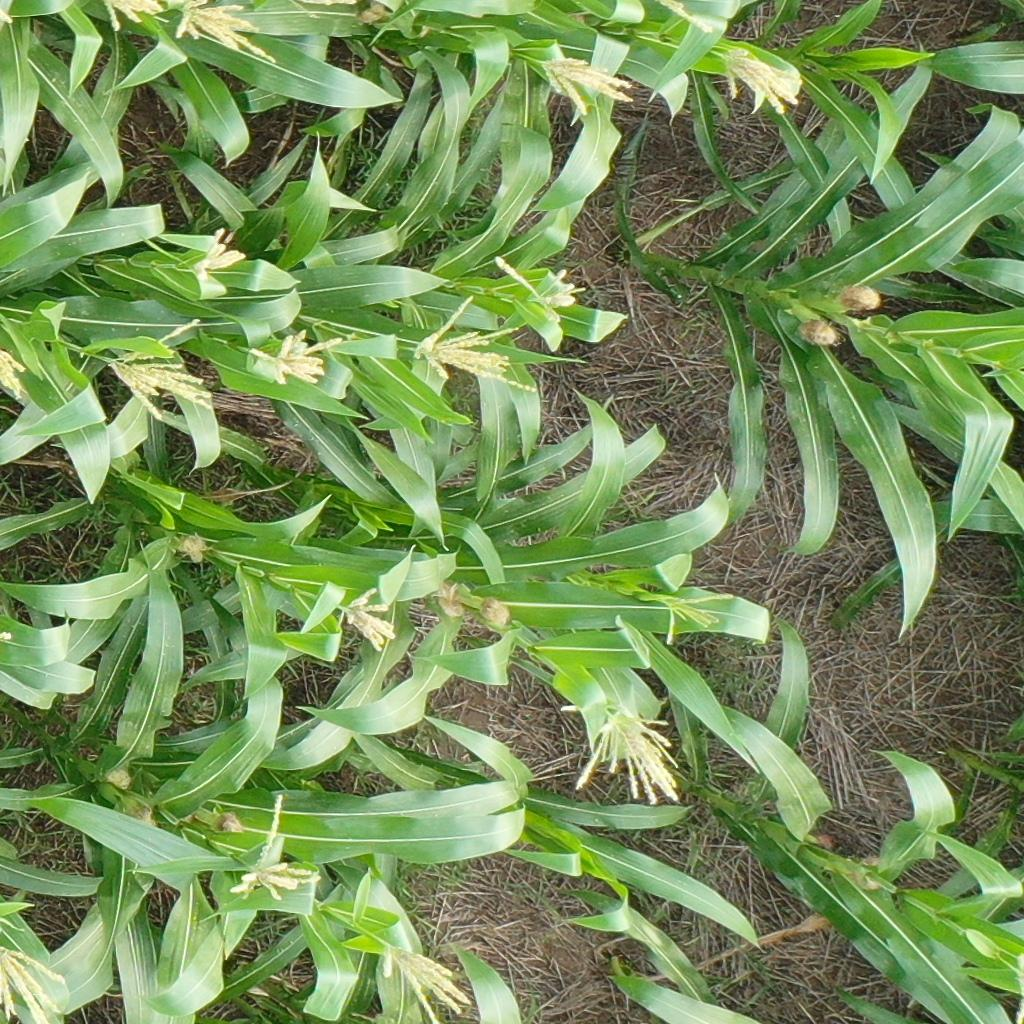Tassel: (572, 704, 687, 811), (102, 316, 217, 422), (416, 295, 538, 394), (225, 792, 323, 907), (383, 942, 470, 1024), (171, 1, 277, 63), (494, 255, 589, 323), (1, 943, 74, 1024), (540, 56, 635, 118), (722, 46, 807, 114), (248, 328, 345, 385), (660, 587, 733, 647), (341, 584, 400, 653), (192, 226, 247, 279), (100, 1, 169, 31), (654, 1, 717, 33), (1, 345, 31, 402)
